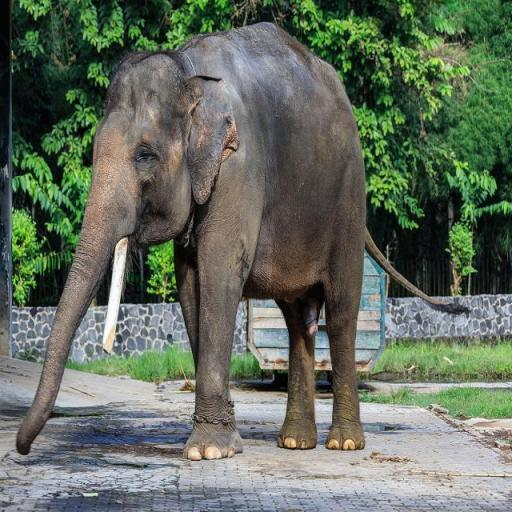Elephant: (16, 20, 454, 461)
